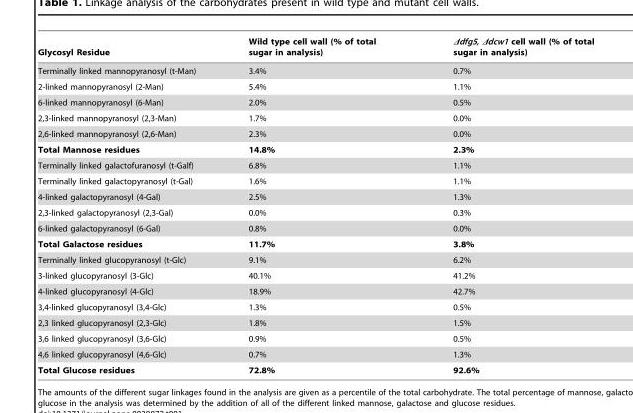table: (37, 36, 593, 374)
table column: (221, 36, 413, 374), (37, 36, 221, 374), (413, 36, 593, 374)
table column header: (37, 36, 593, 61)
table row: (37, 36, 593, 61), (37, 61, 593, 78), (37, 78, 593, 94), (37, 94, 593, 110), (37, 125, 593, 141), (37, 141, 593, 157), (37, 157, 593, 173), (37, 188, 593, 204), (37, 204, 593, 220), (37, 220, 593, 236), (37, 251, 593, 267), (37, 267, 593, 283), (37, 283, 593, 299), (37, 314, 593, 330), (37, 330, 593, 346), (37, 346, 593, 362), (37, 110, 593, 125), (37, 173, 593, 188), (37, 236, 593, 251), (37, 299, 593, 314), (37, 362, 593, 374)
